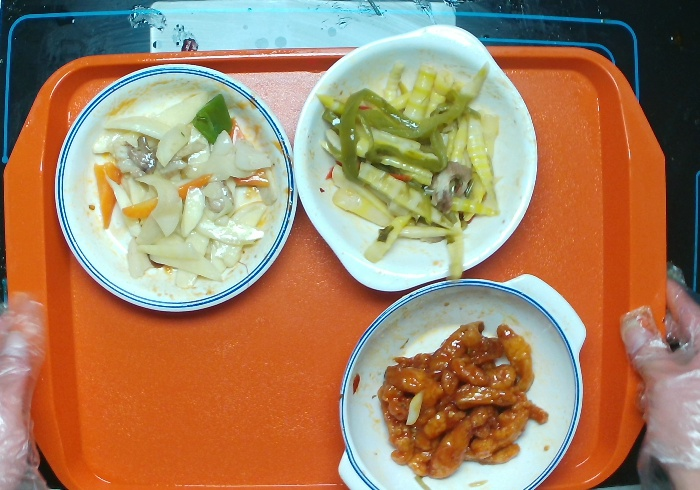HZYJPL-Dai_Er_Bai_Yuan_Wan: (292, 23, 541, 294)
HZYJPL-Lan_Bian_Dai_Er_Wan: (333, 268, 590, 490)
HZYJPL-Lan_Bian_Yuan_Die: (53, 62, 299, 316)
